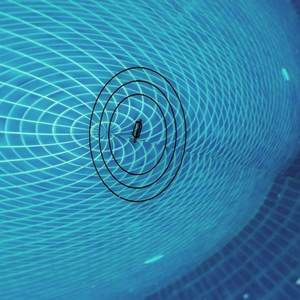circle: (87, 66, 195, 207)
